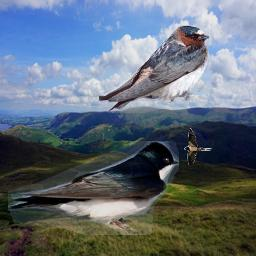Swallow: (8, 141, 179, 235), (99, 25, 209, 113), (184, 128, 212, 166)
